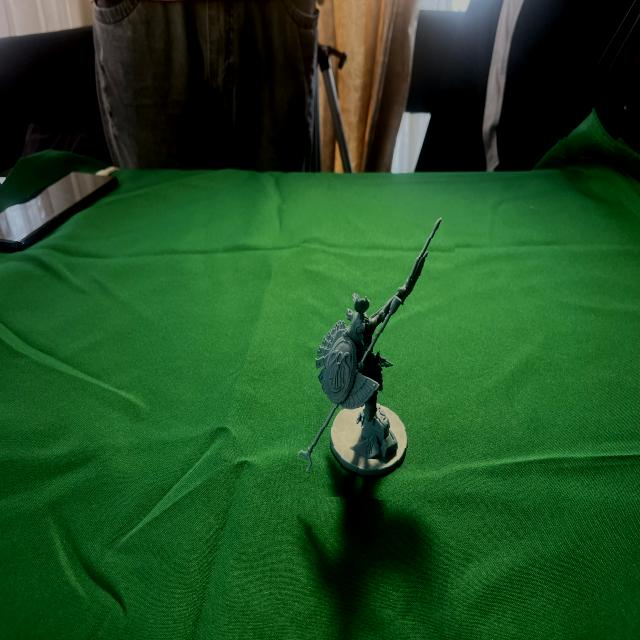isis: (290, 202, 454, 501)
